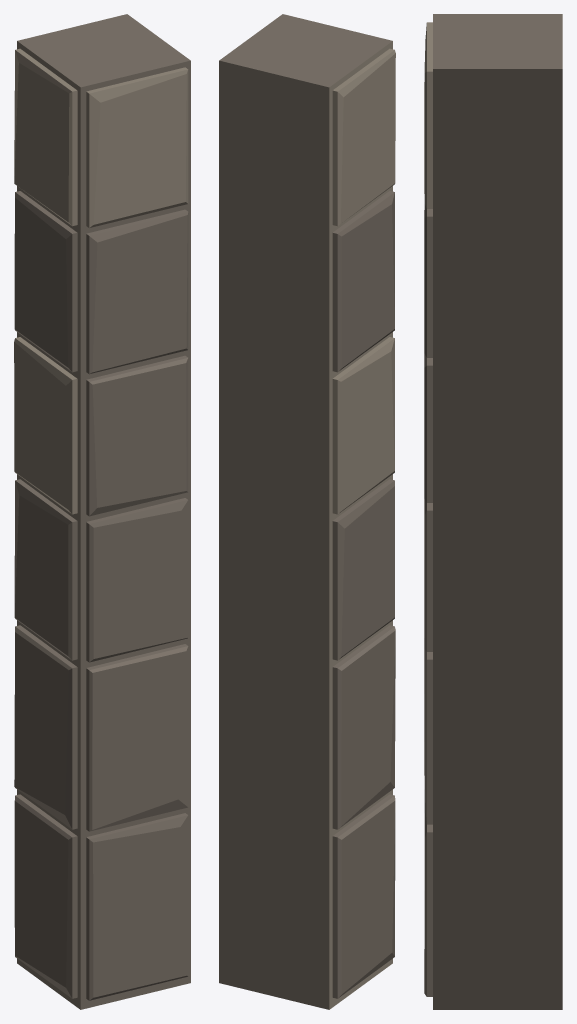
Rendered from mdvl_village_wall_quoin_01.glb.
3 views of the same model, side by side, from view 1: azimuth 30°, elevation 25°; view 2: azimuth 150°, elevation 25°; view 3: azimuth 270°, elevation 25° (orthographic). The views are drawn at different scales.
Visible parts, largest first — view 1: mdvl_village_wall_quoin_01; view 2: mdvl_village_wall_quoin_01; view 3: mdvl_village_wall_quoin_01.
Boxes of the visible parts, left/top/right/bottom form: mdvl_village_wall_quoin_01: left=14, top=14, right=190, bottom=1009; mdvl_village_wall_quoin_01: left=219, top=14, right=395, bottom=1009; mdvl_village_wall_quoin_01: left=424, top=14, right=562, bottom=1009.
Bounding box in the file's own units: 0.32 × 2.4 × 0.32.
Materials: 1 (1 with a texture image).
